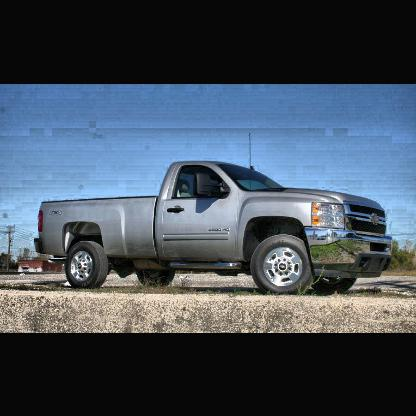Chevrolet Silverado 2500HD Regular Cab 2012: (33, 131, 393, 296)
